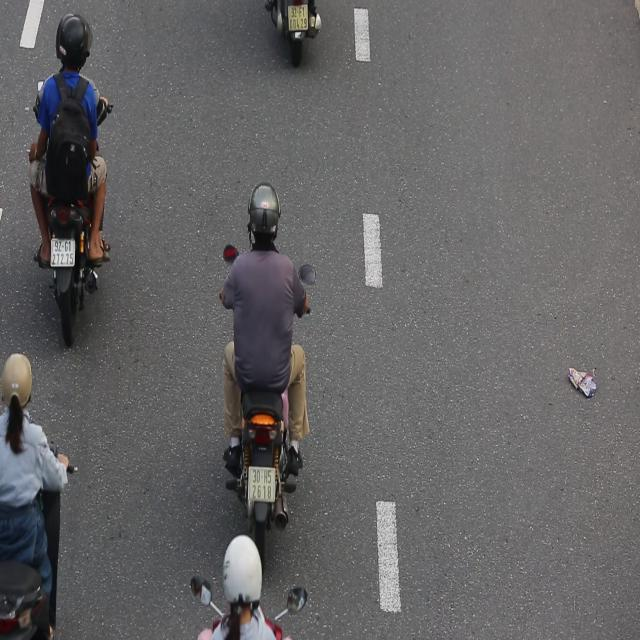motorbike: (218, 172, 317, 539), (24, 6, 117, 354)
